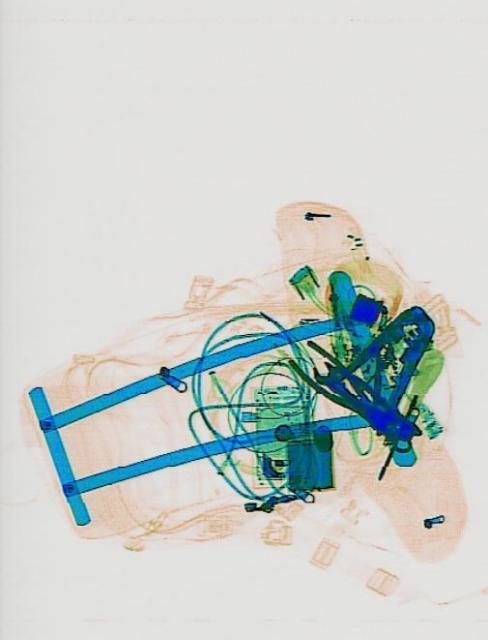Pliers: (282, 330, 427, 458), (328, 288, 447, 432)
Wrench: (306, 352, 391, 434)
